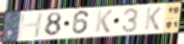3: (121, 7, 140, 33)
6: (72, 10, 90, 36)
8: (42, 11, 62, 38)
H: (16, 11, 45, 41)
K: (143, 6, 163, 31), (94, 9, 114, 34)
